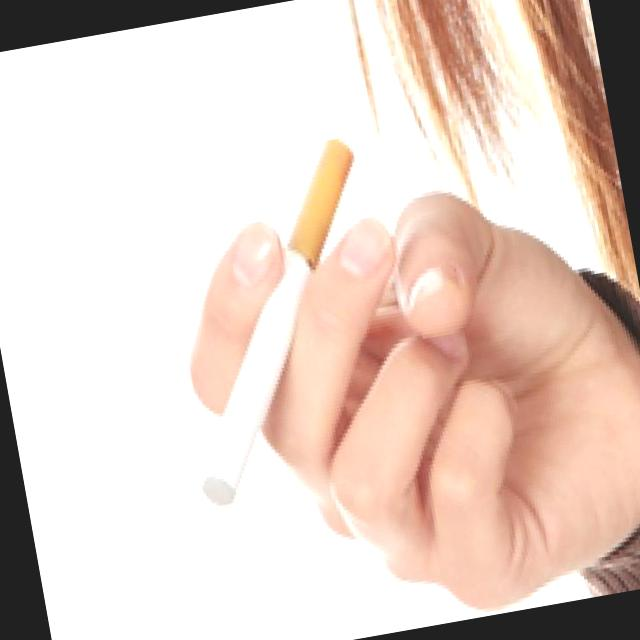cigarette: (138, 123, 419, 512)
